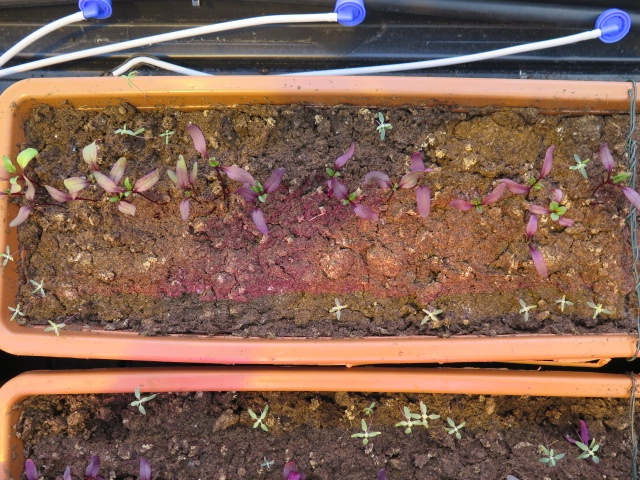crop: (215, 161, 294, 238), (46, 135, 102, 214), (3, 134, 42, 233), (498, 142, 563, 200), (596, 143, 639, 220), (407, 146, 447, 219), (125, 152, 164, 222), (528, 190, 579, 236), (327, 140, 363, 204), (522, 216, 552, 287), (169, 149, 200, 217), (5, 174, 37, 237), (100, 154, 124, 221), (360, 169, 414, 198), (450, 183, 502, 213), (185, 118, 214, 167), (276, 449, 303, 480), (85, 445, 106, 478), (135, 450, 156, 479), (24, 453, 46, 480)
weed: (126, 381, 160, 420), (346, 414, 384, 448), (413, 303, 449, 329), (243, 403, 273, 434), (512, 294, 540, 327), (583, 296, 616, 323), (371, 108, 395, 145), (325, 294, 351, 325), (565, 152, 592, 181), (442, 415, 469, 442), (551, 289, 577, 314), (40, 317, 68, 339), (26, 275, 49, 300), (4, 300, 26, 323)
